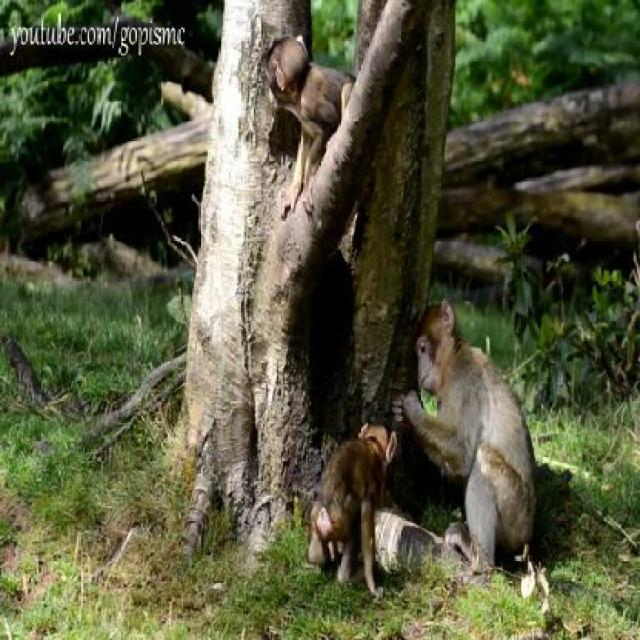Monkey: (394, 292, 566, 602), (259, 19, 387, 218), (308, 408, 406, 595)
